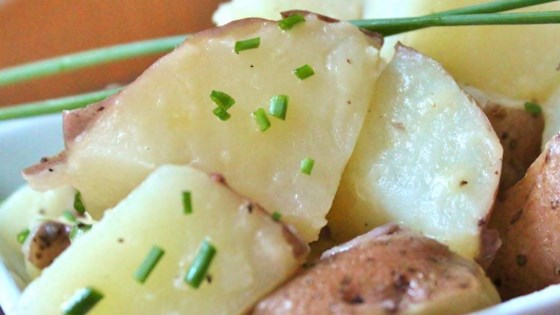boiled potatoes: (29, 30, 557, 312)
